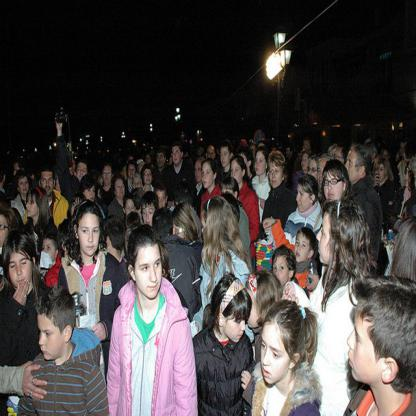face: (348, 305, 382, 385), (262, 323, 291, 385), (135, 247, 163, 299), (317, 214, 342, 265), (39, 314, 64, 360), (78, 214, 101, 256), (10, 253, 33, 289), (225, 309, 248, 342), (324, 171, 344, 202), (274, 256, 290, 287), (346, 150, 361, 183), (295, 233, 311, 263), (318, 158, 332, 189), (297, 184, 312, 212), (270, 162, 283, 189), (143, 204, 157, 227), (202, 163, 214, 189), (1, 217, 10, 251), (42, 172, 54, 197), (44, 239, 57, 262), (231, 161, 243, 185), (255, 151, 267, 175), (27, 195, 39, 218), (174, 222, 186, 242), (202, 215, 210, 243), (222, 189, 235, 206), (308, 160, 318, 181), (157, 192, 167, 212), (221, 147, 231, 167), (196, 161, 205, 183), (116, 180, 126, 199), (86, 185, 96, 204), (78, 163, 88, 182), (333, 151, 343, 170), (126, 201, 136, 219), (376, 163, 386, 181), (406, 167, 414, 189), (104, 166, 113, 185), (20, 178, 30, 195), (173, 147, 182, 164), (144, 169, 153, 184), (157, 153, 165, 167), (15, 165, 22, 181), (302, 155, 309, 171), (403, 142, 409, 159), (129, 164, 136, 178), (134, 178, 141, 192), (67, 165, 74, 179), (207, 151, 215, 161), (98, 178, 104, 190), (251, 146, 256, 159), (198, 147, 204, 156), (401, 144, 405, 157), (170, 158, 175, 167), (189, 146, 194, 155), (305, 141, 310, 150), (146, 155, 151, 163), (287, 148, 291, 158), (397, 154, 400, 160), (217, 149, 220, 154)
